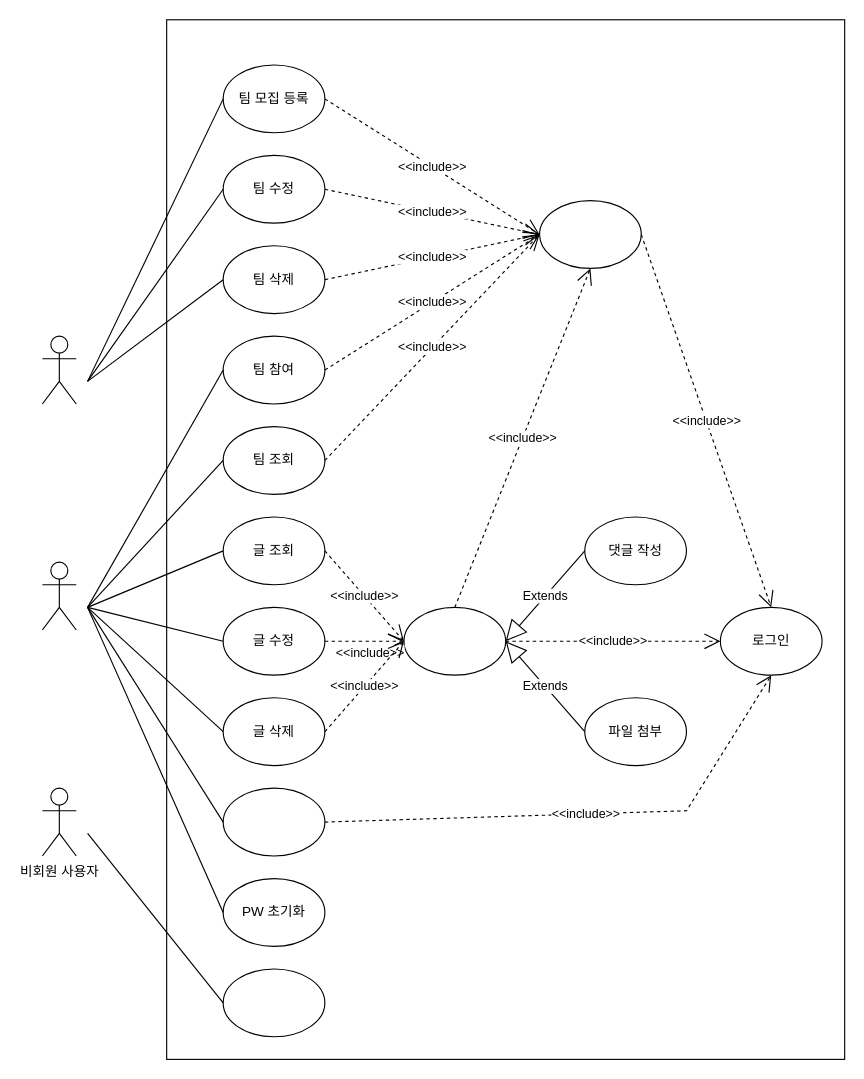
Image size: 864x1079. Some labels were removed from this diagram. The centre of each missing label's shape, as x and y in pixels:
글 작성: point 454,640
일반 사용자: point 58,595
정보 수정: point 273,821
팀 생성: point 589,233
호스트 사용자: point 58,369
회원가입: point 273,1002
